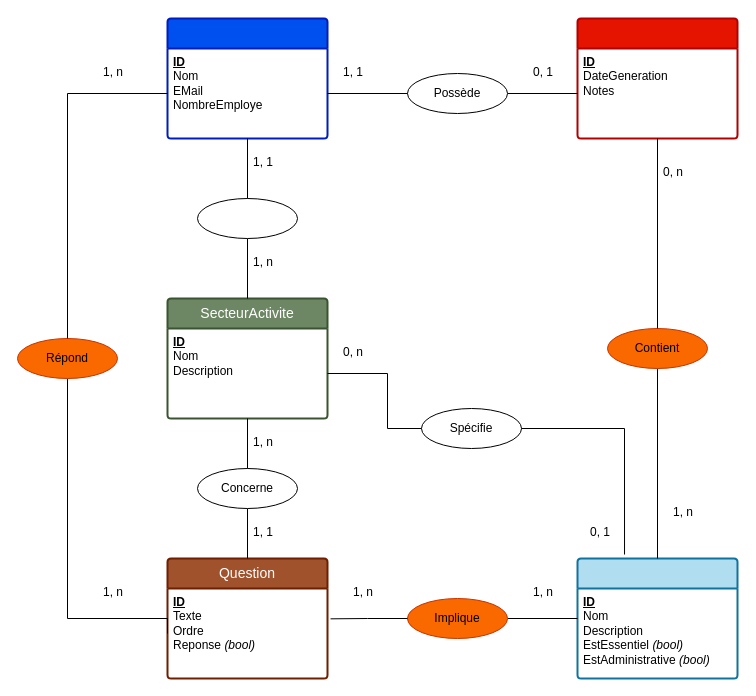
The diagram is 756 pixels wide and 696 high, and some of its shapes have lost their labels. The box of each missing label's shape, as (x1, y1, x2, y2) in pixels:
Appartient: (196, 198, 298, 238)
ApplicationOdoo: (576, 557, 738, 679)
Client: (166, 17, 328, 139)
Resultat: (576, 17, 738, 139)
